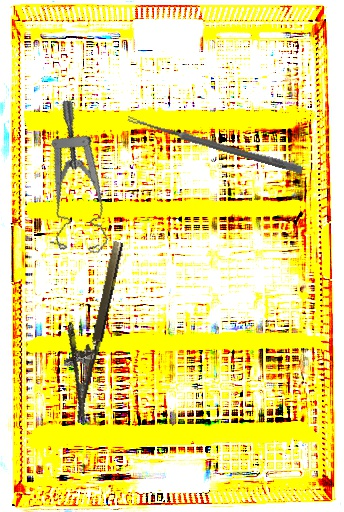Needle Holder: (47, 235, 126, 424)
Speculum: (20, 97, 144, 263)
Surgical Spoon: (126, 115, 304, 174)
